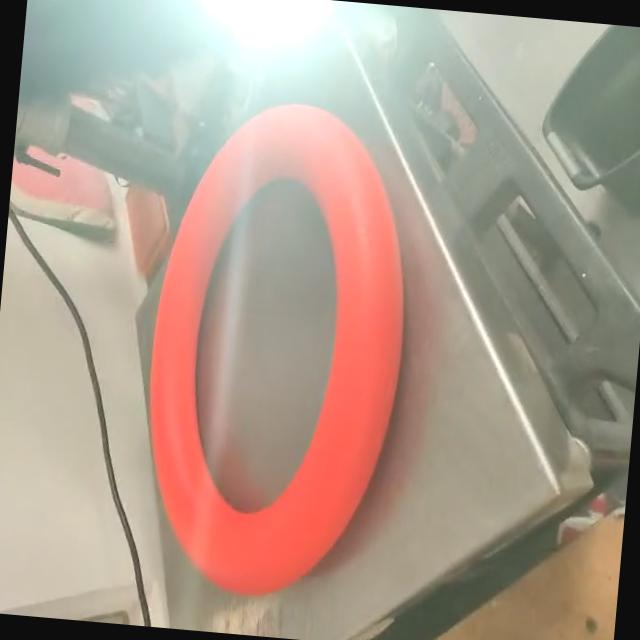note: (120, 84, 427, 610)
